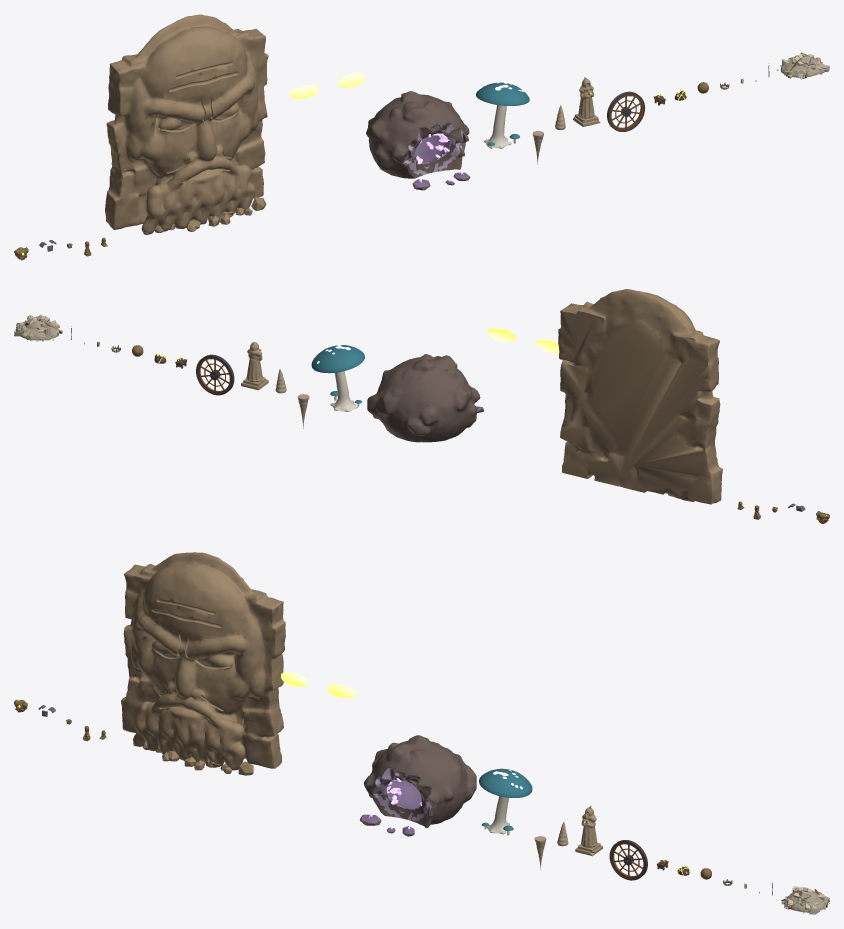
Rendered from deep.glb.
The picture shows the model from 3 angles, top to bottom: view 1: azimuth 30°, elevation 25°; view 2: azimuth 150°, elevation 25°; view 3: azimuth 330°, elevation 25°; orthographic projection.
Parts seen in each view (by area): view 1: colossus_face, geode, giant_mushroom, lift_wheel, rubble_pile, ancestor_statue, colossus_eyes; view 2: colossus_face, geode, giant_mushroom, rubble_pile, lift_wheel, ancestor_statue, colossus_eyes; view 3: colossus_face, geode, giant_mushroom, rubble_pile, lift_wheel, ancestor_statue.
Boxes of the visible parts, left/top/right/bottom form: colossus_face: left=105, top=14, right=268, bottom=235; geode: left=366, top=91, right=470, bottom=190; giant_mushroom: left=476, top=82, right=529, bottom=148; lift_wheel: left=607, top=91, right=645, bottom=131; rubble_pile: left=776, top=52, right=829, bottom=79; ancestor_statue: left=573, top=77, right=600, bottom=126; colossus_eyes: left=289, top=72, right=365, bottom=98; colossus_face: left=558, top=289, right=722, bottom=504; geode: left=367, top=354, right=484, bottom=442; giant_mushroom: left=311, top=345, right=364, bottom=411; rubble_pile: left=14, top=314, right=62, bottom=341; lift_wheel: left=196, top=354, right=234, bottom=395; ancestor_statue: left=241, top=342, right=268, bottom=390; colossus_eyes: left=487, top=328, right=559, bottom=354; colossus_face: left=121, top=552, right=285, bottom=775; geode: left=360, top=735, right=476, bottom=836; giant_mushroom: left=479, top=768, right=532, bottom=835; rubble_pile: left=781, top=886, right=829, bottom=914; lift_wheel: left=609, top=840, right=647, bottom=880; ancestor_statue: left=575, top=806, right=602, bottom=856.
Size of the model in its own units: 133 by 35.62 by 16.78.
